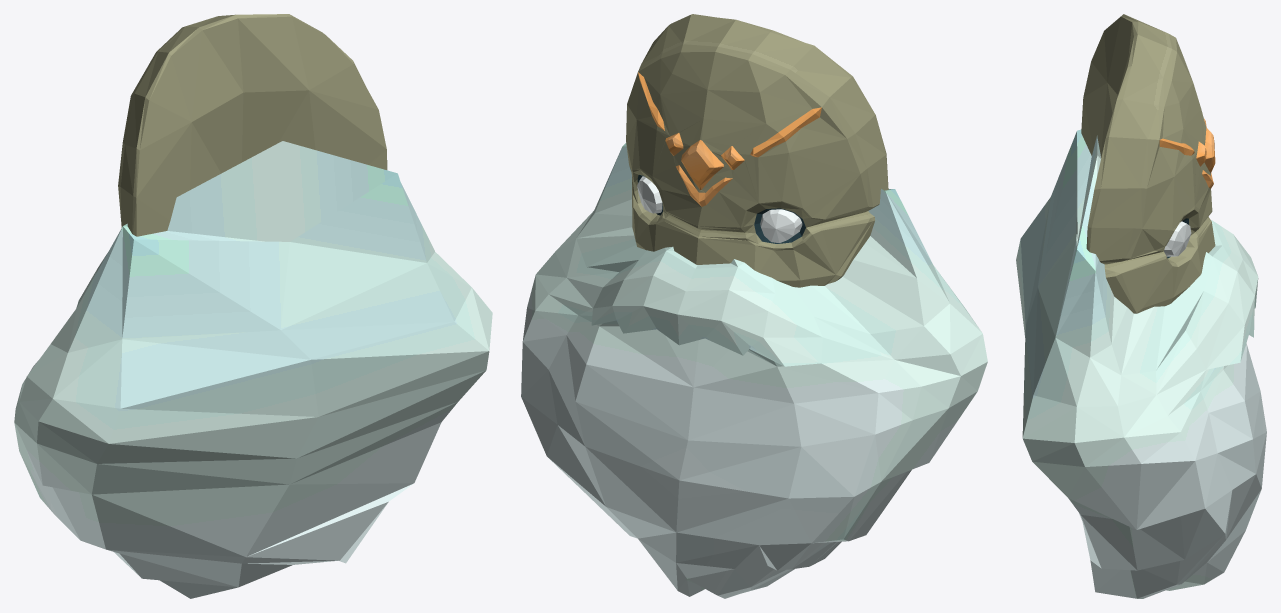
The model's file is CharSkyKid_Mask_AP04Beard.glb.
The picture shows the model from 3 angles, left to right: view 1: azimuth 30°, elevation 25°; view 2: azimuth 150°, elevation 25°; view 3: azimuth 270°, elevation 25°; orthographic projection. The views are drawn at different scales.
Parts seen in each view (by area): view 1: CharSkyKid_Mask_AP04Beard; view 2: CharSkyKid_Mask_AP04Beard; view 3: CharSkyKid_Mask_AP04Beard.
Boxes of the visible parts, <box> form: CharSkyKid_Mask_AP04Beard: <box>14,14,492,598</box>; CharSkyKid_Mask_AP04Beard: <box>521,14,987,598</box>; CharSkyKid_Mask_AP04Beard: <box>1016,14,1266,598</box>.
Bounding box in the file's own units: 3.74 × 4.63 × 1.92.
Materials: 1 (1 with a texture image).
